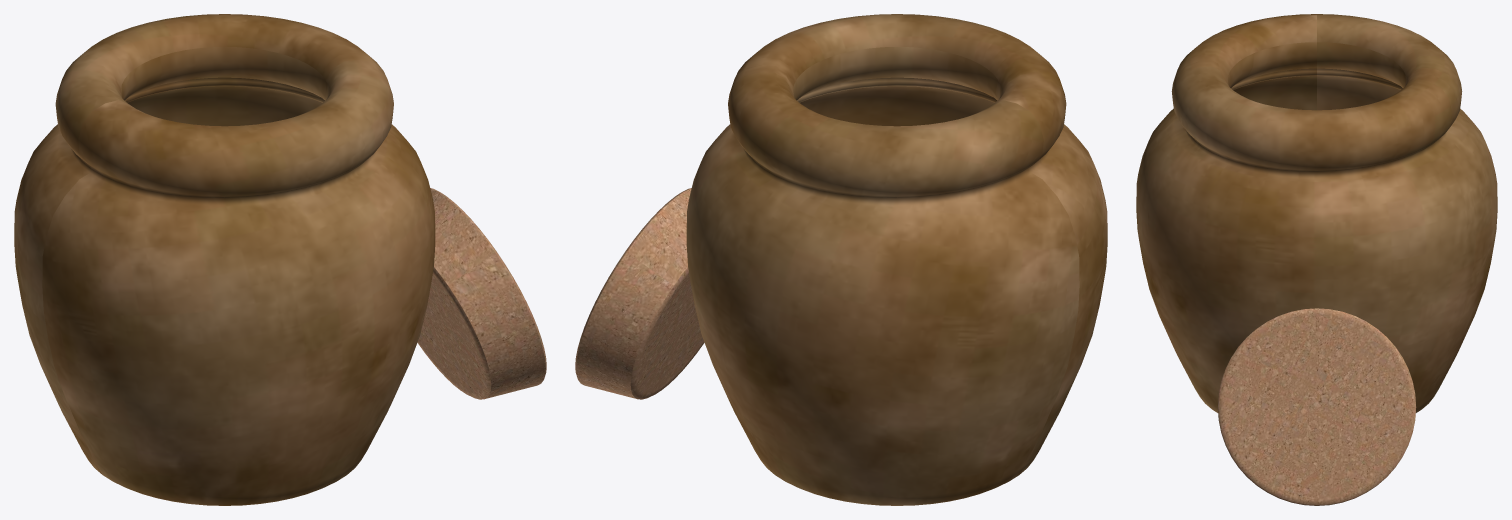
The model's file is jar_brown.glb.
3 renders of one model, left to right at view 1: azimuth 30°, elevation 25°; view 2: azimuth 150°, elevation 25°; view 3: azimuth 270°, elevation 25°, orthographic. The views are drawn at different scales.
Visible parts, largest first — view 1: HoneyPot_HoneyPot_0; view 2: HoneyPot_HoneyPot_0; view 3: HoneyPot_HoneyPot_0.
Part boxes in pixels (x1,y1,x2,y2): HoneyPot_HoneyPot_0: (14, 14, 546, 505); HoneyPot_HoneyPot_0: (575, 14, 1107, 505); HoneyPot_HoneyPot_0: (1136, 14, 1497, 505).
Size of the model in its own units: 0.9865 by 0.75 by 0.7626.
Materials: 2 (2 with a texture image).
